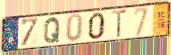0: (64, 13, 86, 44), (87, 12, 106, 41)
7: (20, 17, 40, 48), (133, 7, 151, 37)
Q: (43, 16, 62, 45)
T: (111, 8, 129, 39)
